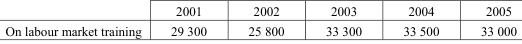table: (4, 3, 516, 37)
table column: (4, 3, 155, 37), (226, 3, 304, 37), (381, 3, 459, 37), (304, 3, 381, 37), (155, 3, 226, 37), (459, 3, 516, 37)
table column header: (4, 3, 516, 20)
table row: (4, 3, 516, 20), (4, 20, 516, 37)
